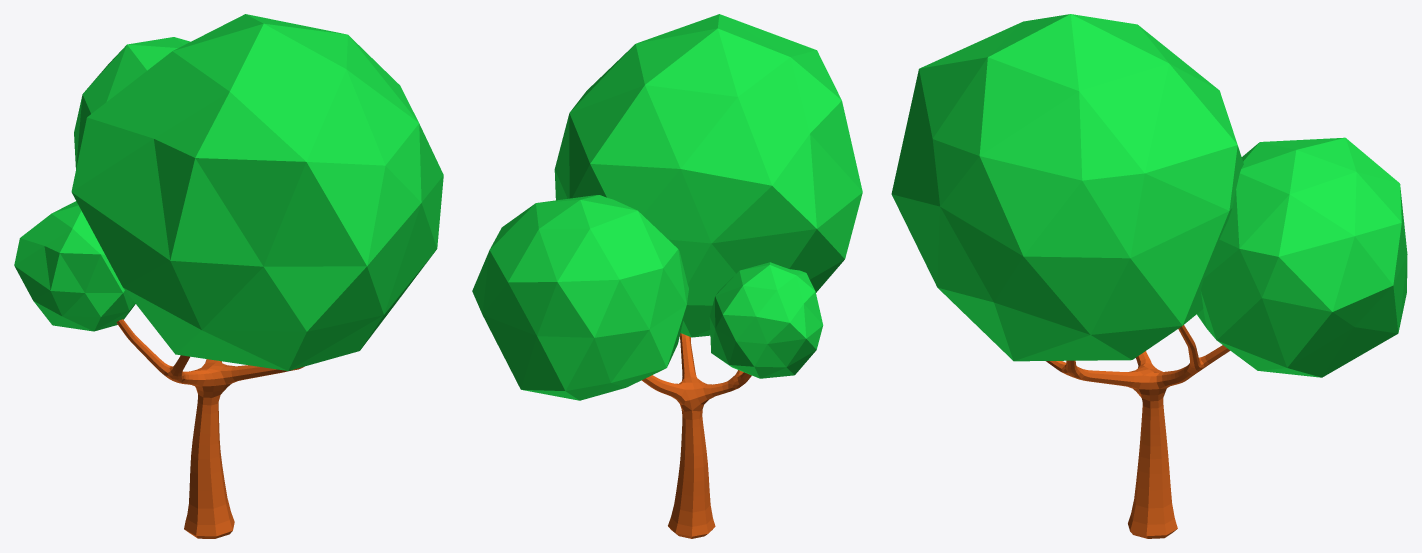
The model's file is ağaç4.fbx.
3 renders of one model, left to right at view 1: azimuth 30°, elevation 25°; view 2: azimuth 150°, elevation 25°; view 3: azimuth 270°, elevation 25°, orthographic. The views are drawn at different scales.
Visible parts, largest first — view 1: Icosphere.002, Plane; view 2: Icosphere.002, Plane; view 3: Icosphere.002, Plane.
Boxes of the visible parts, x1,y1,x2,y2 form: Icosphere.002: [14, 14, 443, 370]; Plane: [116, 319, 304, 538]; Icosphere.002: [472, 14, 862, 400]; Plane: [642, 333, 751, 538]; Icosphere.002: [891, 14, 1407, 377]; Plane: [1046, 325, 1230, 538].
Size of the model in its own units: 910 by 1410 by 1257.
